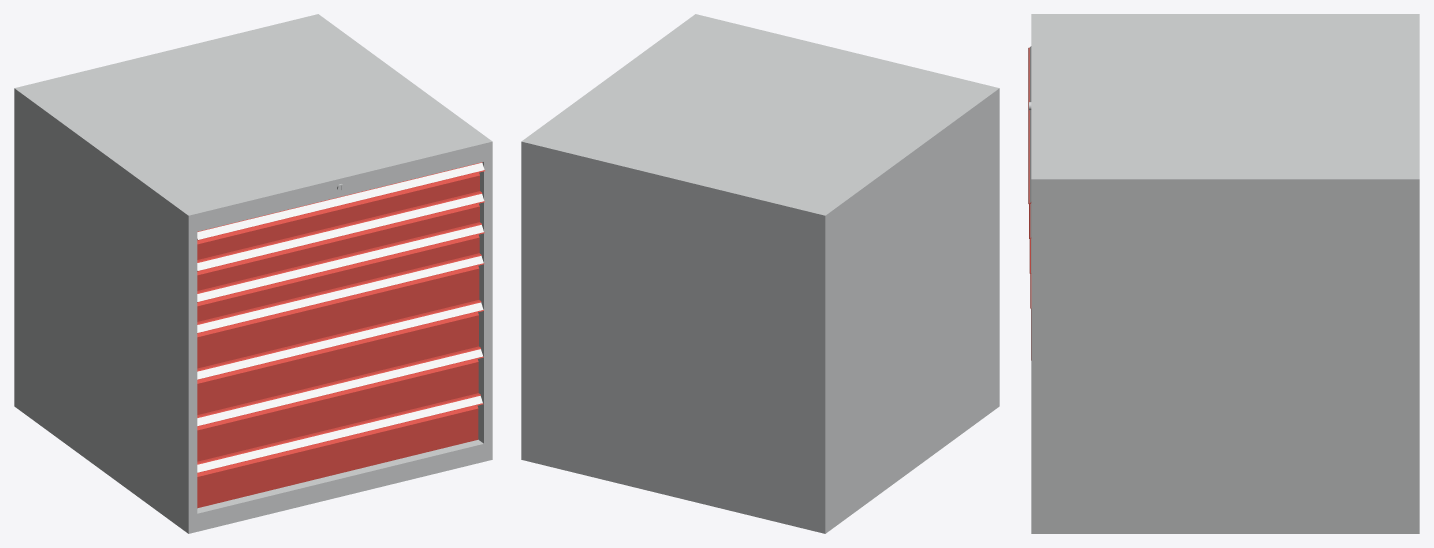
File: prova1mbis.gltf
3 views of the same model, side by side, from view 1: azimuth 30°, elevation 25°; view 2: azimuth 150°, elevation 25°; view 3: azimuth 270°, elevation 25° (orthographic). The views are drawn at different scales.
Parts seen in each view (by area): view 1: mesh_13; view 2: mesh_13; view 3: mesh_13.
Part boxes in pixels (<box>): mesh_13: <box>14,14,492,533</box>; mesh_13: <box>521,14,999,533</box>; mesh_13: <box>1028,14,1419,533</box>.
Size of the model in its own units: 1 by 1 by 1.
